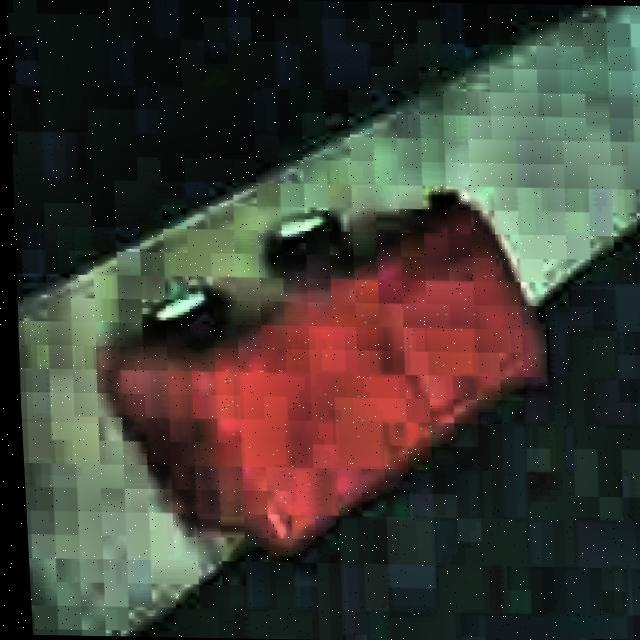bus: (85, 184, 554, 556)
